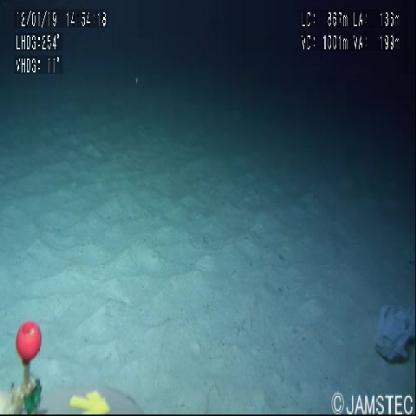Rác: (375, 305, 415, 365)
